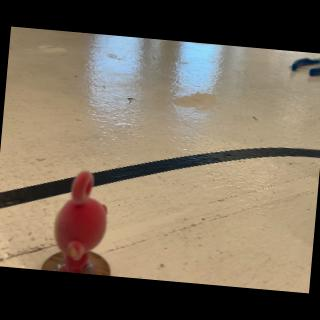teletubby: (54, 171, 107, 273)
